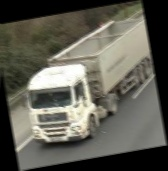truck: (15, 13, 162, 150)
